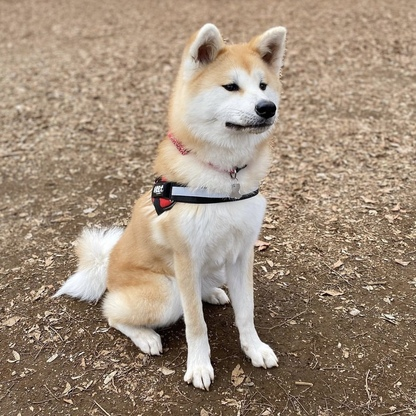akita: (55, 19, 301, 399)
